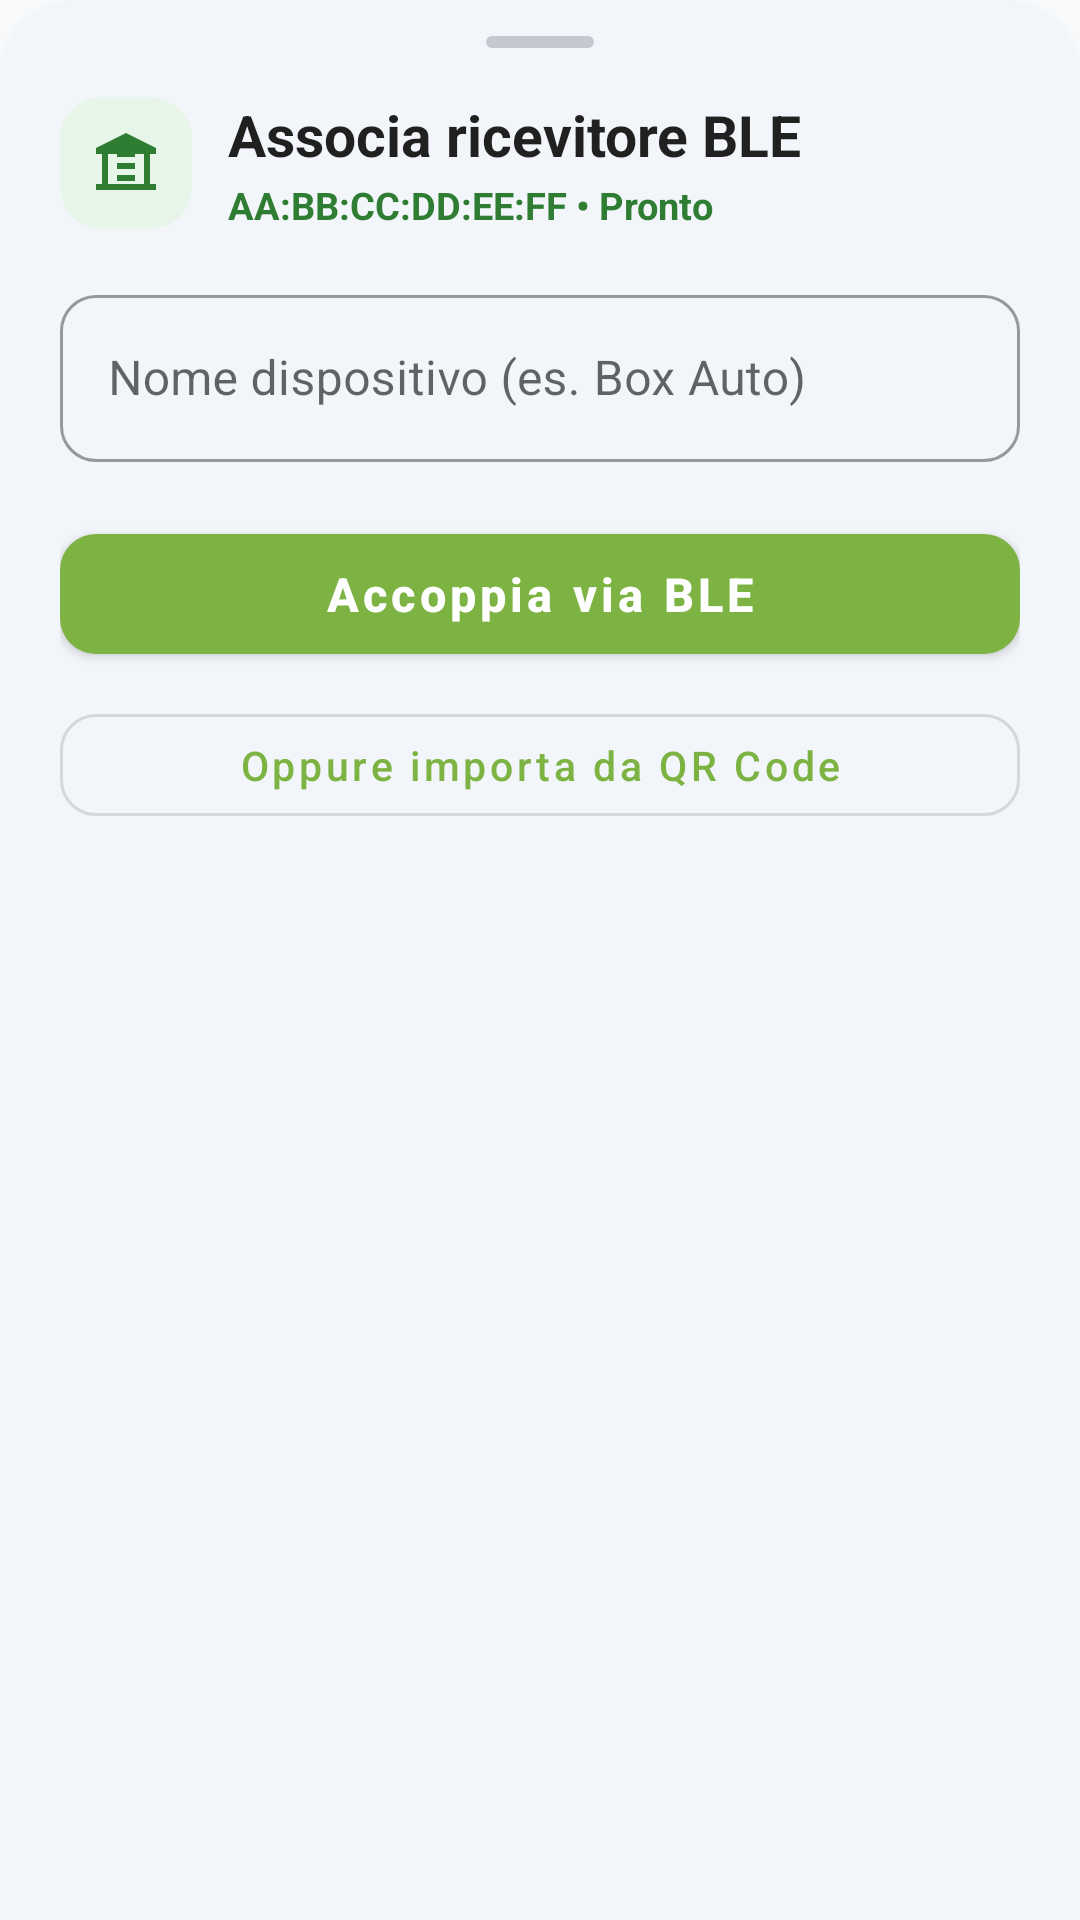

Named icons in this screenshot (1080*1920) and their bounding boxes, (x1, y1, x2, y2):
garage: (96, 133, 156, 190)
